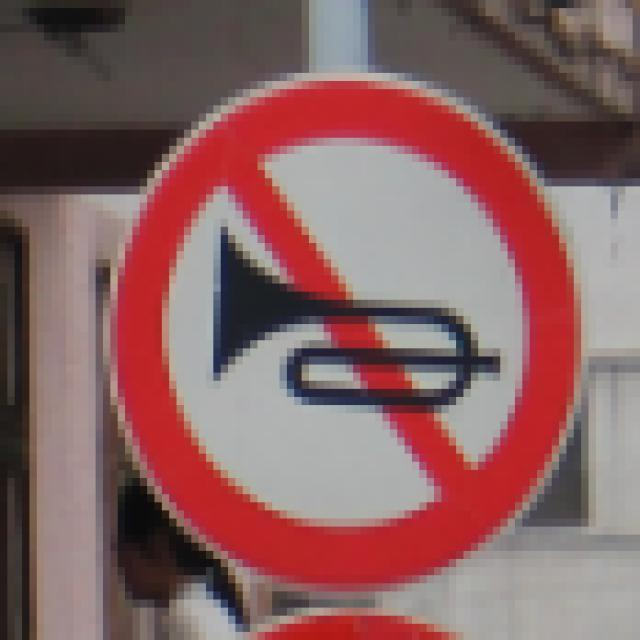No Horn: (101, 74, 584, 601)
